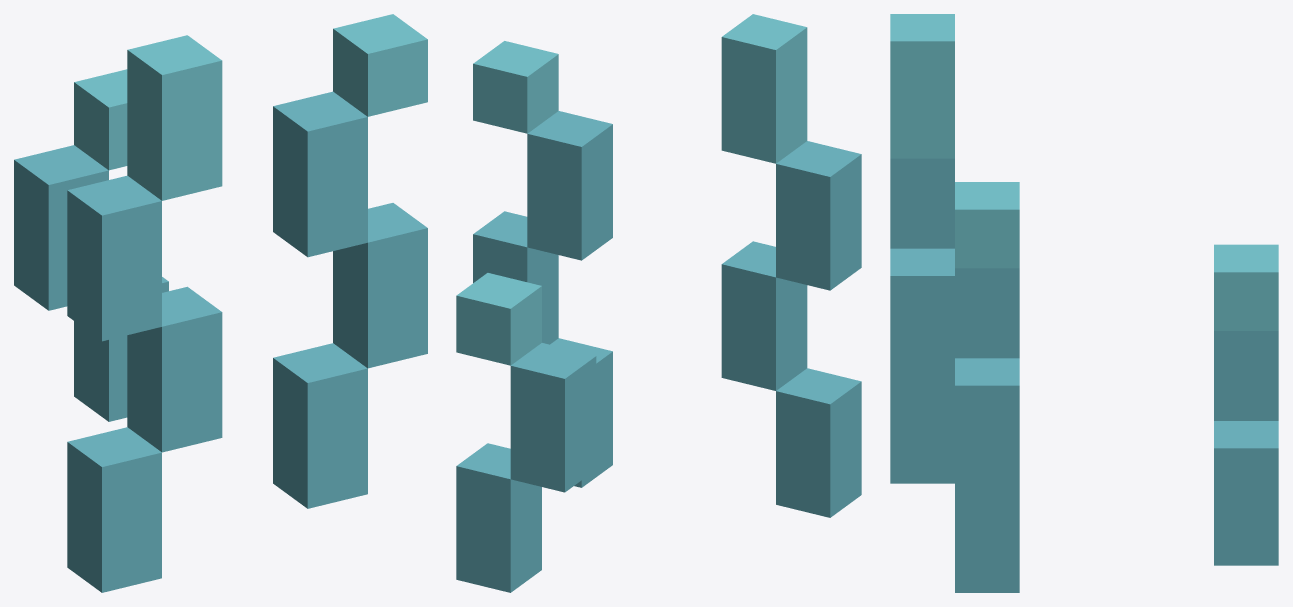
The model's file is alga_bioluminiscente_01.glb.
3 renders of one model, left to right at view 1: azimuth 30°, elevation 25°; view 2: azimuth 150°, elevation 25°; view 3: azimuth 270°, elevation 25°, orthographic. The views are drawn at different scales.
Visible parts, largest first — view 1: alga_bioluminiscente_01; view 2: alga_bioluminiscente_01; view 3: alga_bioluminiscente_01.
Boxes of the visible parts, <box> form: alga_bioluminiscente_01: <box>14,14,427,592</box>; alga_bioluminiscente_01: <box>456,14,861,592</box>; alga_bioluminiscente_01: <box>890,14,1278,592</box>.
Bounding box in the file's own units: 0.6 × 0.8 × 0.6.
